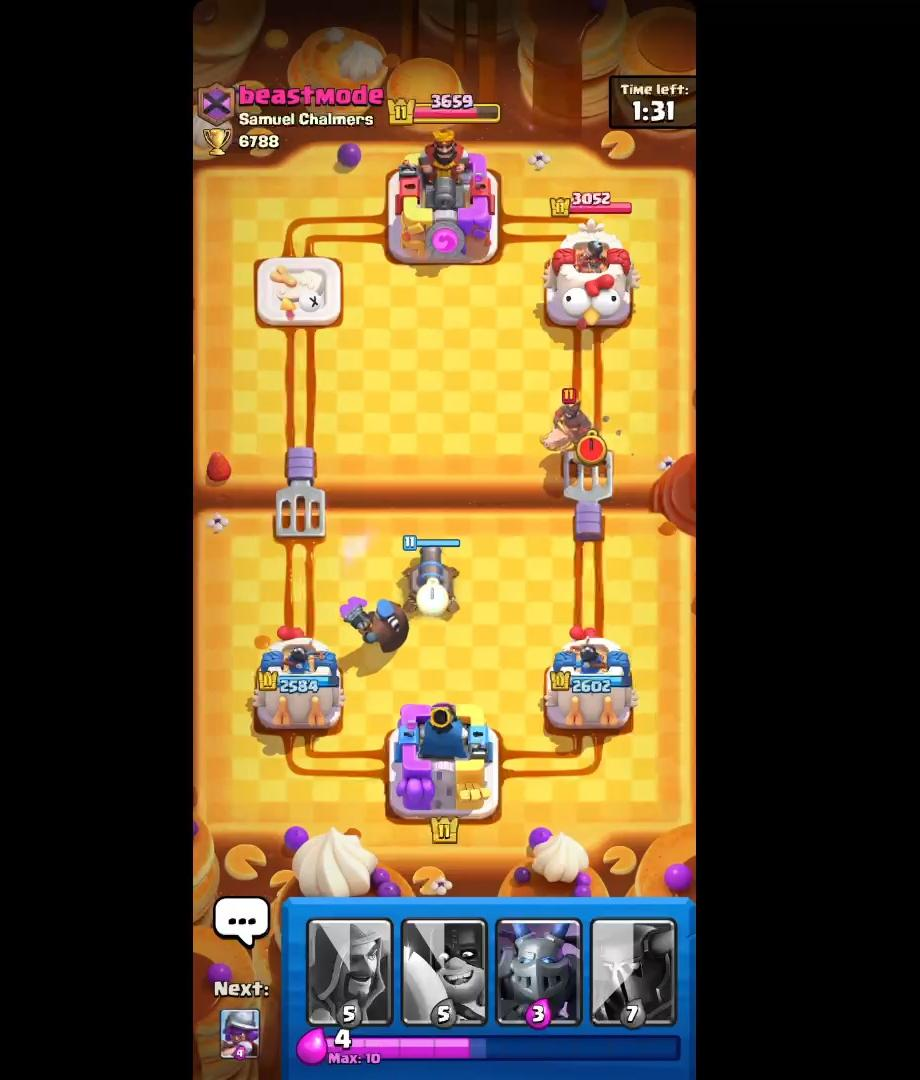Hog Rider: (540, 384, 605, 458)
